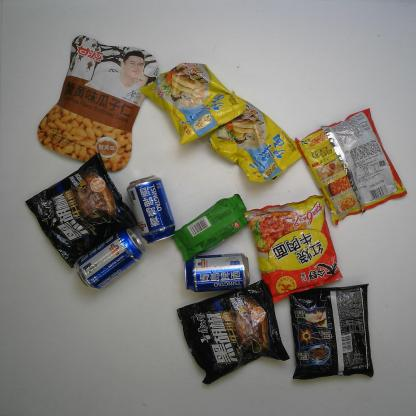Alcohol: (75, 227, 147, 290), (126, 174, 176, 245), (184, 252, 250, 293)
Dessert: (171, 193, 254, 262)
Dried Fruit: (35, 34, 162, 174)
Instant Noodles: (23, 151, 139, 270), (294, 107, 409, 227), (176, 279, 292, 387), (243, 194, 343, 304), (138, 62, 248, 147), (288, 283, 375, 382), (207, 97, 305, 184)
